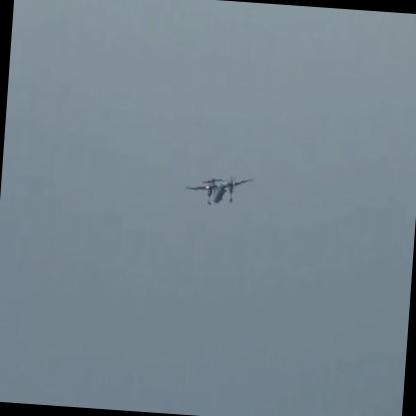plane: (184, 172, 256, 209)
